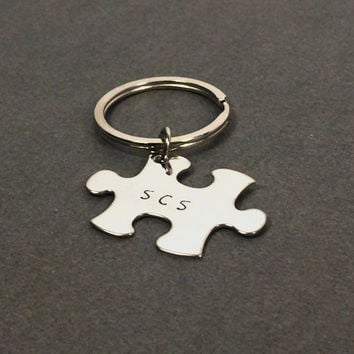puzzle piece: (70, 141, 282, 262)
